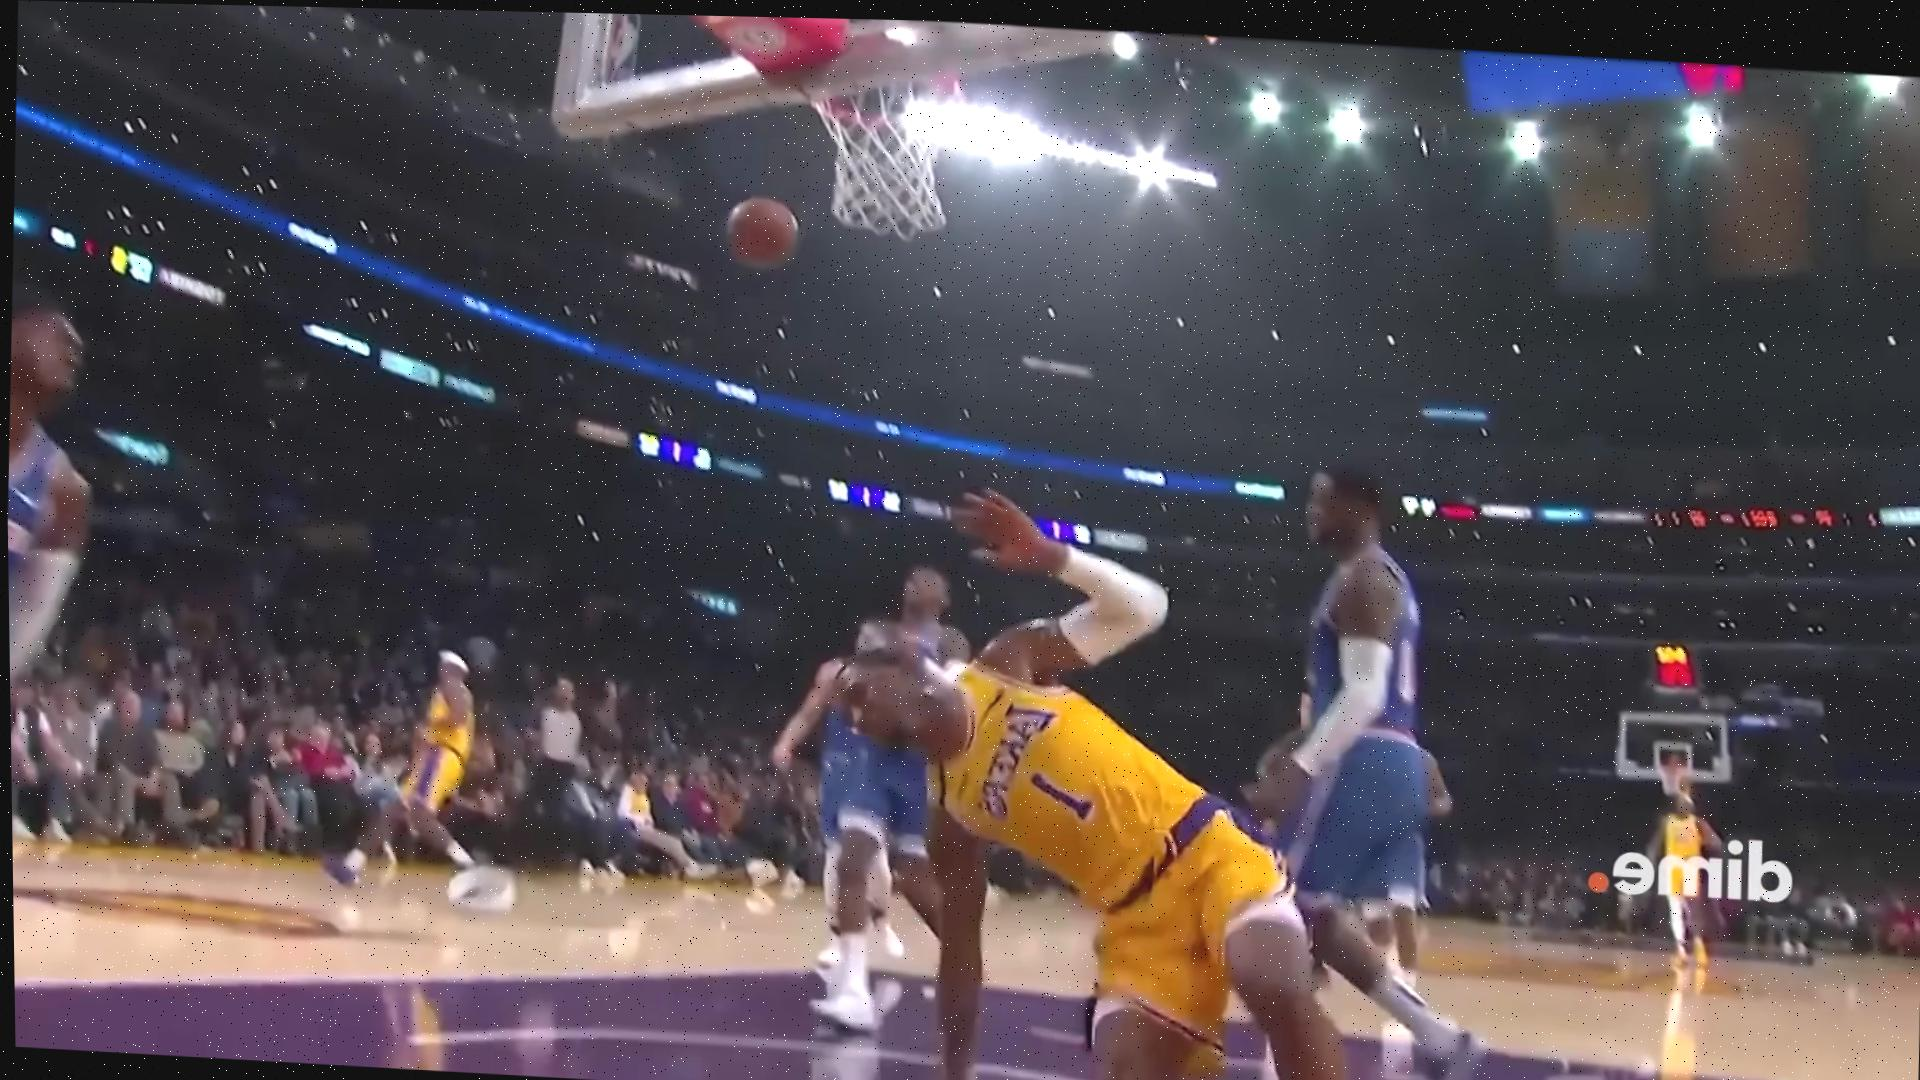no_foul: (828, 467, 1410, 1080)
